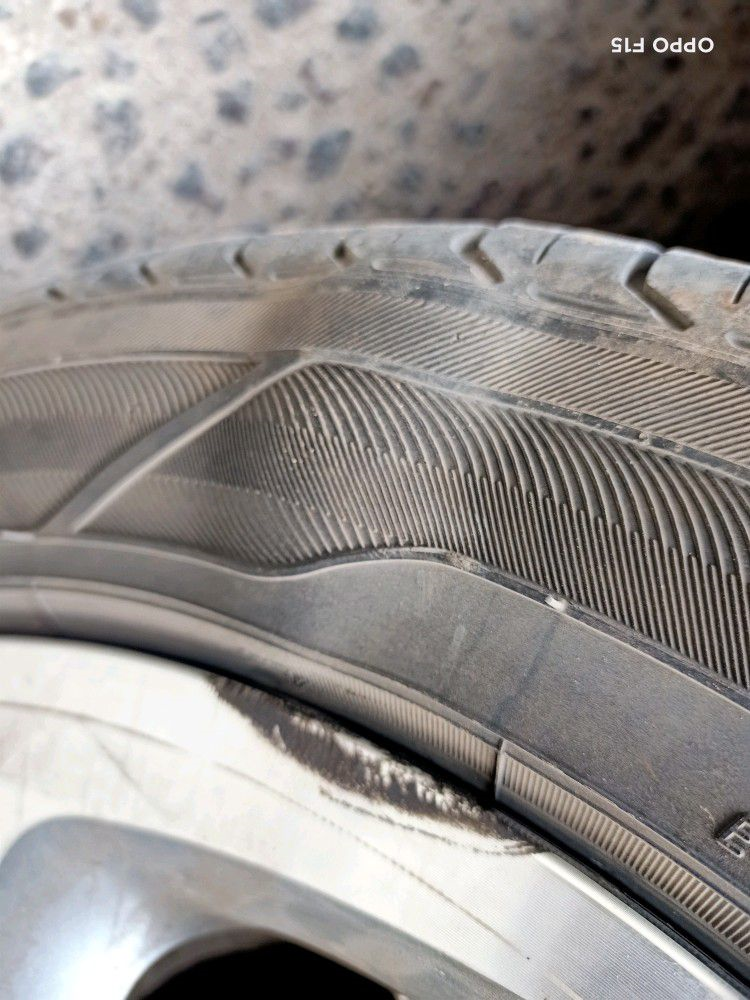CBU: (202, 262, 516, 608)
